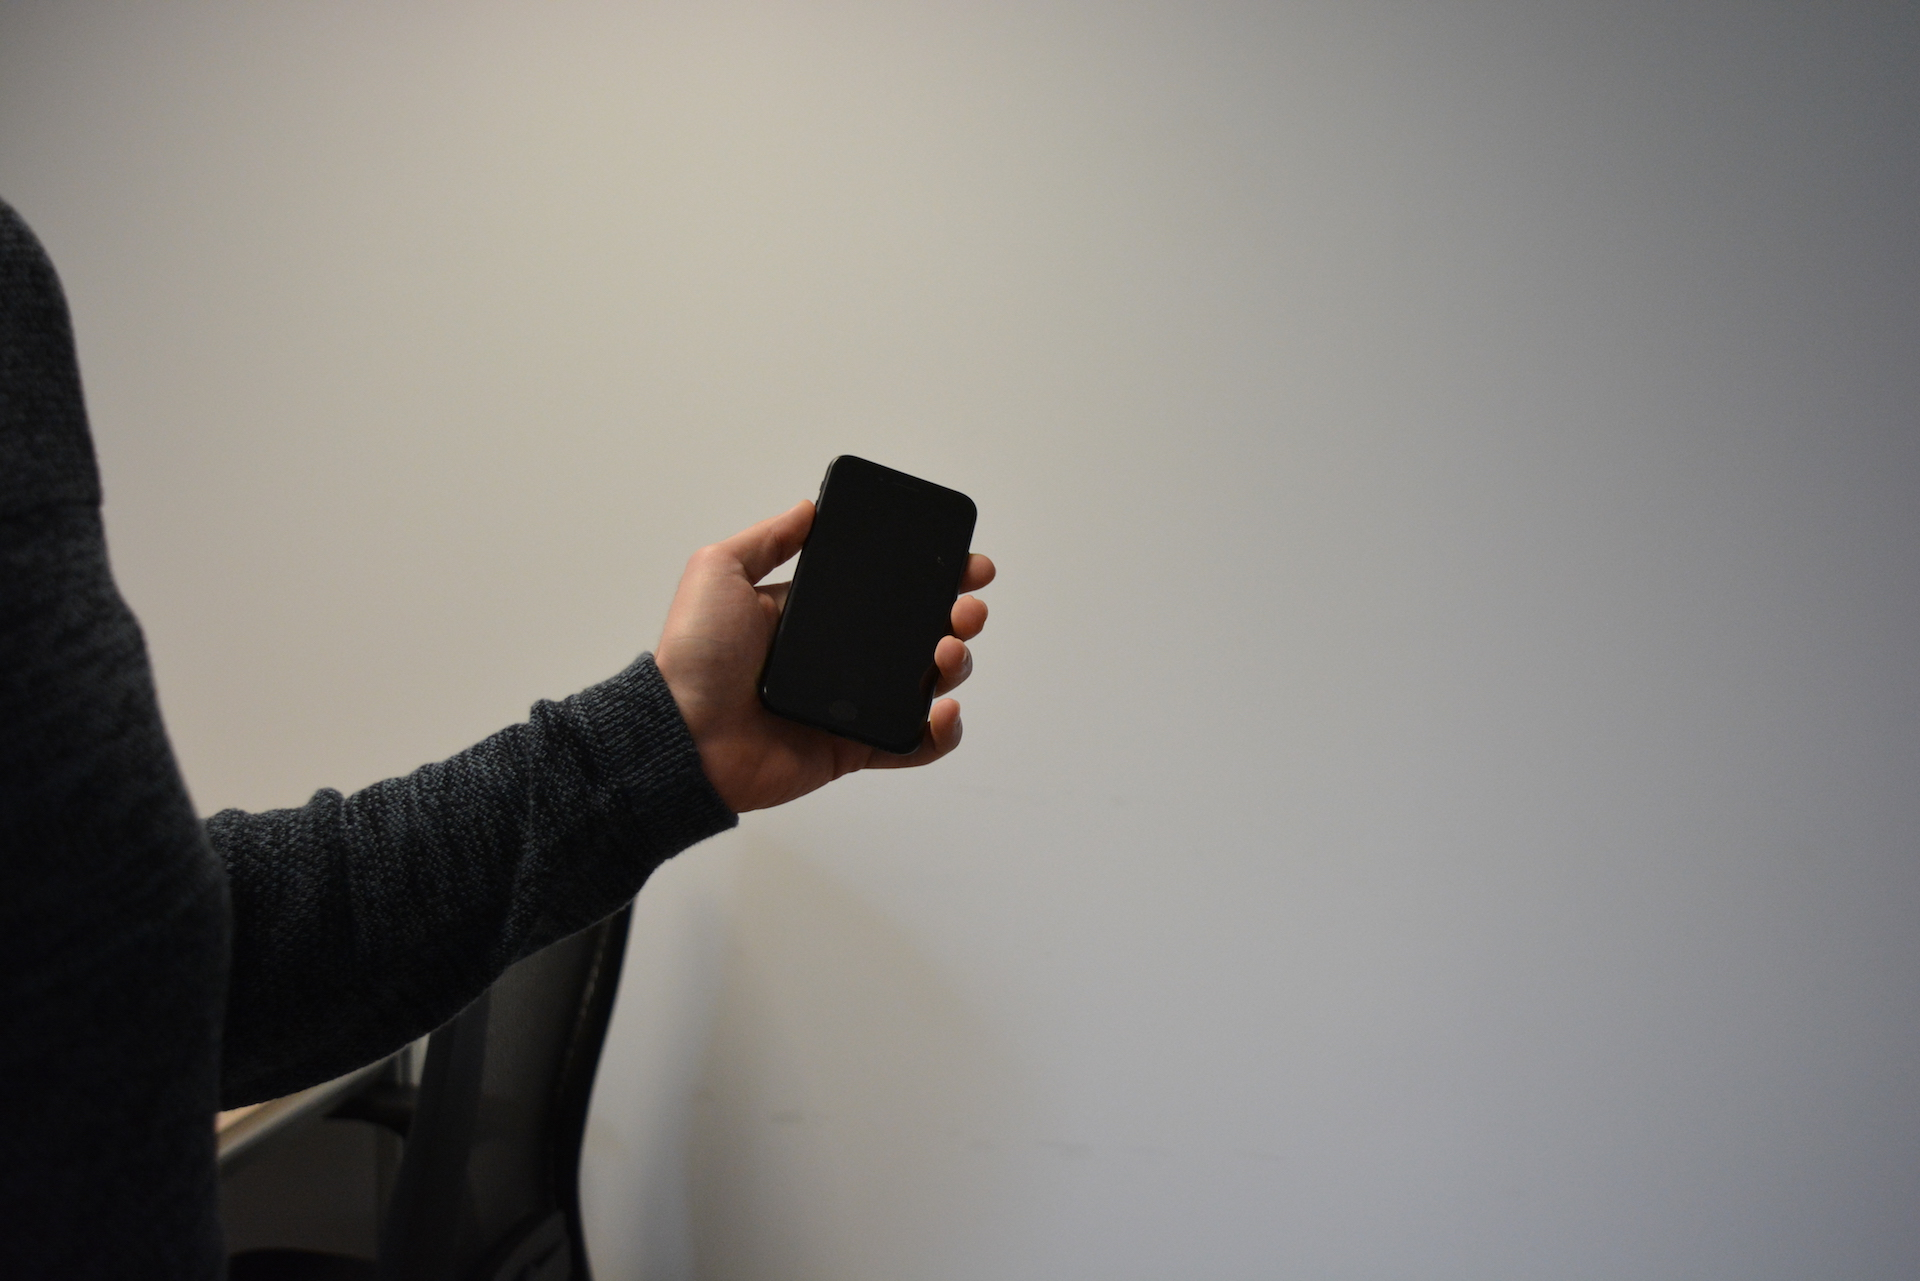smartphone: (755, 453, 979, 758)
